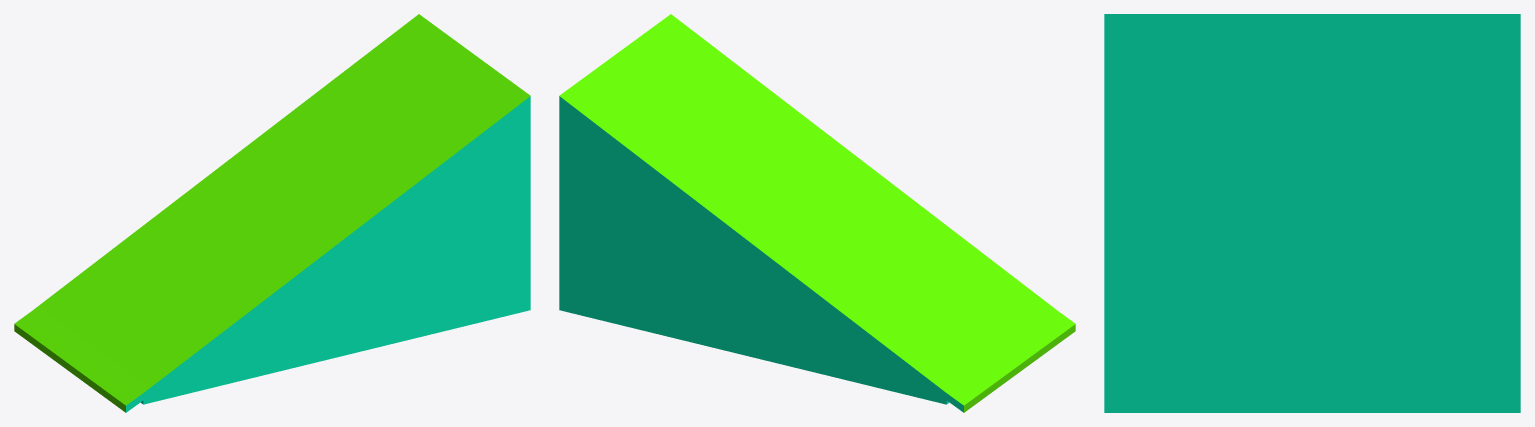
The model's file is Top1.fbx.
3 renders of one model, left to right at view 1: azimuth 30°, elevation 25°; view 2: azimuth 150°, elevation 25°; view 3: azimuth 270°, elevation 25°, orthographic. The views are drawn at different scales.
Parts seen in each view (by area): view 1: T1; view 2: T1; view 3: T1.
Part boxes in pixels (x1,y1,x2,y2): T1: [14, 14, 530, 412]; T1: [559, 14, 1075, 412]; T1: [1104, 14, 1520, 412].
Bounding box in the file's own units: 8.36 × 4.31 × 4.
